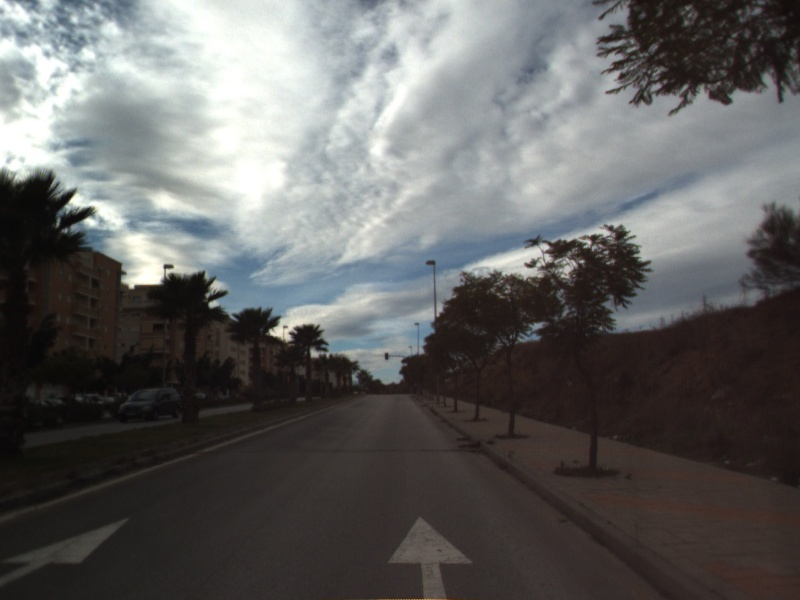STRAIGHT: (1, 515, 133, 588), (385, 514, 475, 600)
